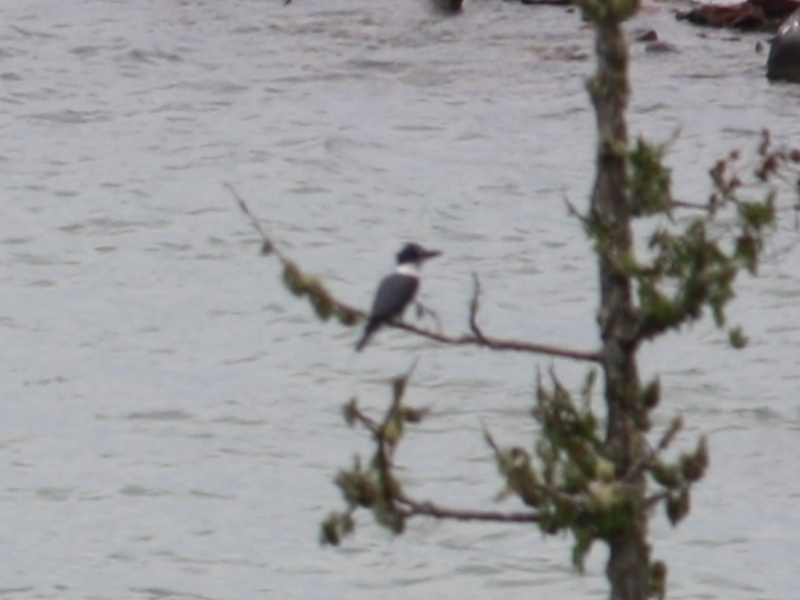kingfisher: (359, 241, 441, 351)
